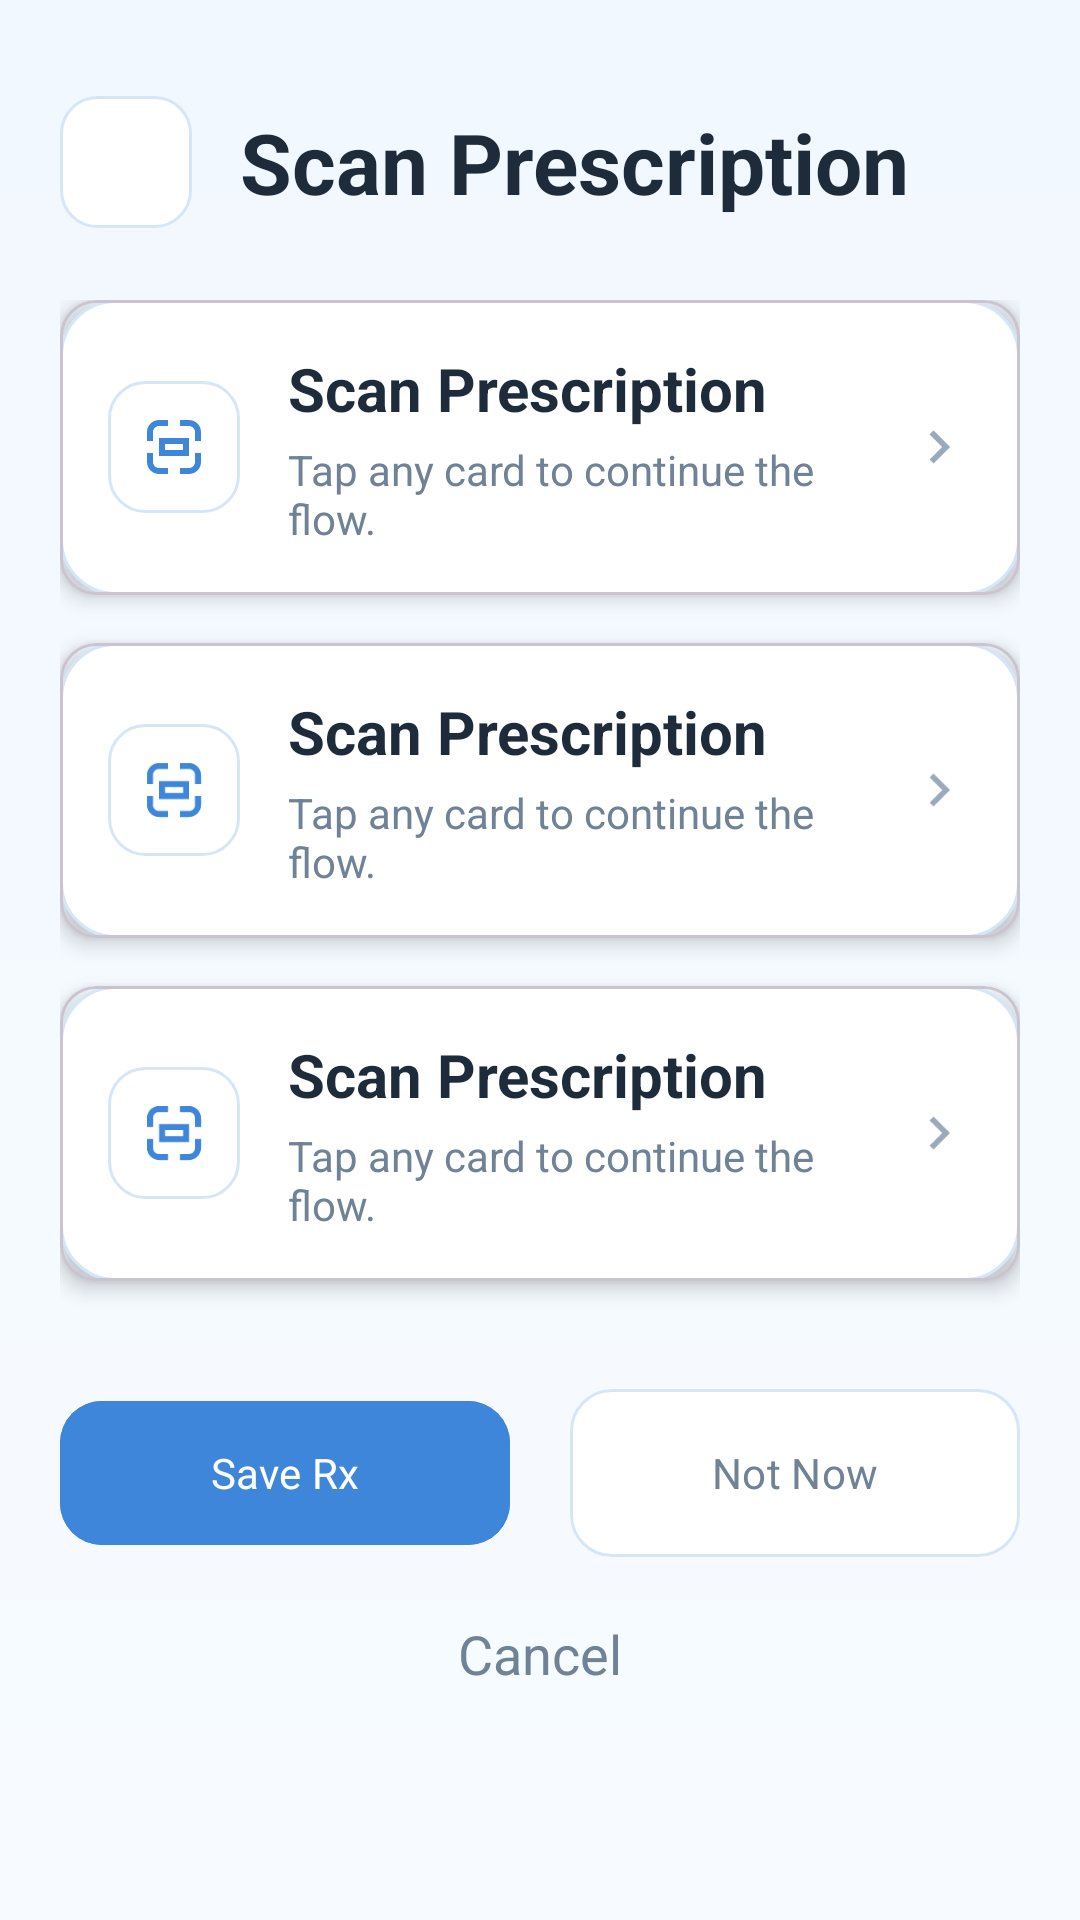

Screen size 1080×1920. Icon name, then its center in pixels as (x=x, y=y):
arrow right: (x=939, y=447), (x=940, y=790), (x=939, y=1133)
